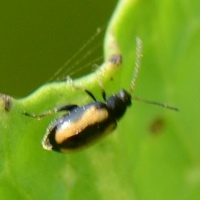insect: (23, 89, 131, 151)
